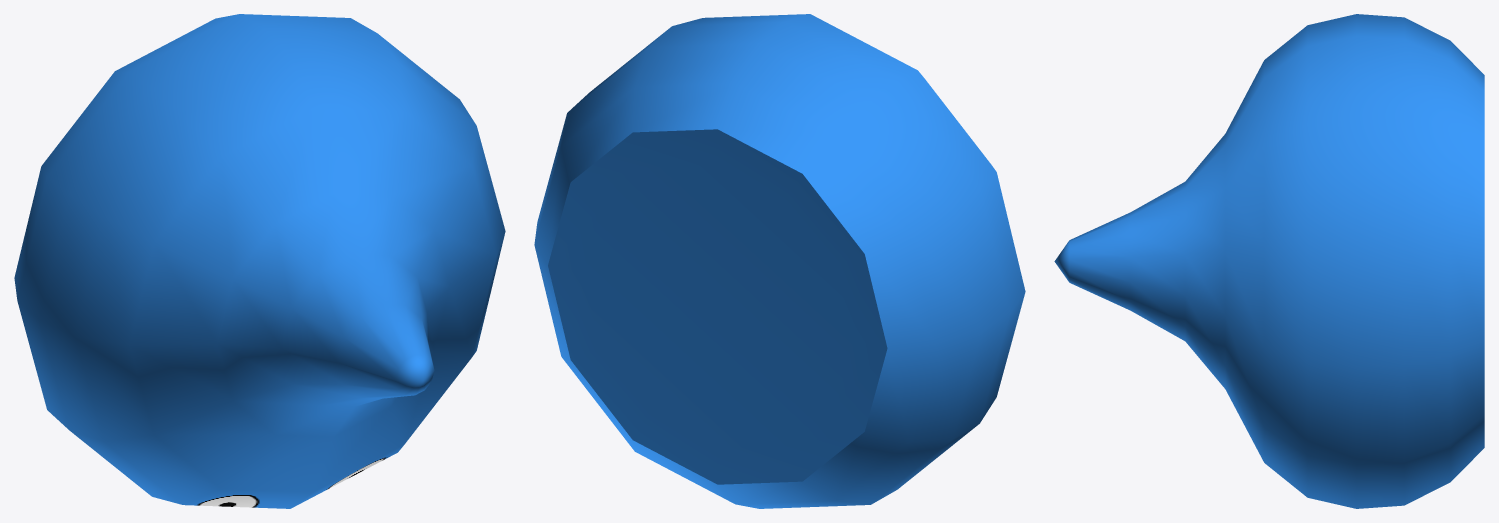
Rendered from slime08.obj.
3 renders of one model, left to right at view 1: azimuth 30°, elevation 25°; view 2: azimuth 150°, elevation 25°; view 3: azimuth 270°, elevation 25°, orthographic. The views are drawn at different scales.
Parts seen in each view (by area): view 1: pSphere1; view 2: pSphere1; view 3: pSphere1.
Boxes of the visible parts, left/top/right/bottom form: pSphere1: left=14, top=14, right=505, bottom=508; pSphere1: left=534, top=14, right=1025, bottom=508; pSphere1: left=1054, top=14, right=1484, bottom=508.
Size of the model in its own units: 14.42 by 14.42 by 12.48.
